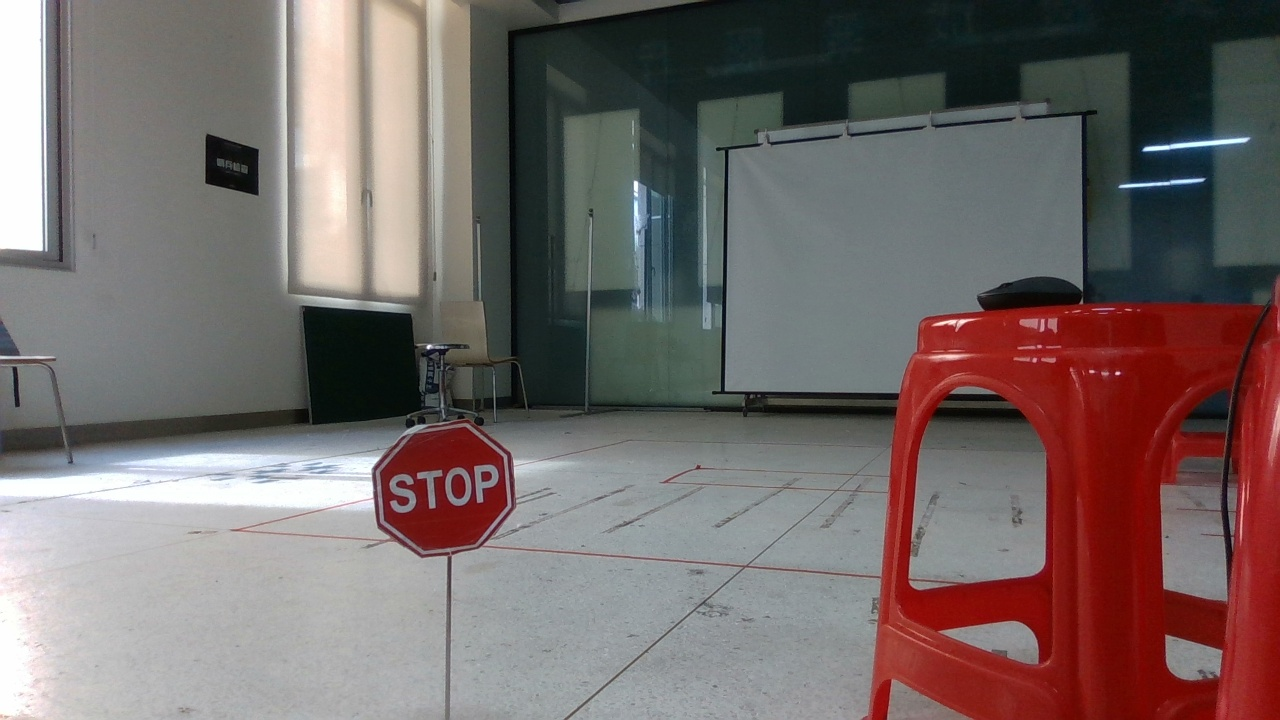stop_sign: (367, 419, 537, 565)
